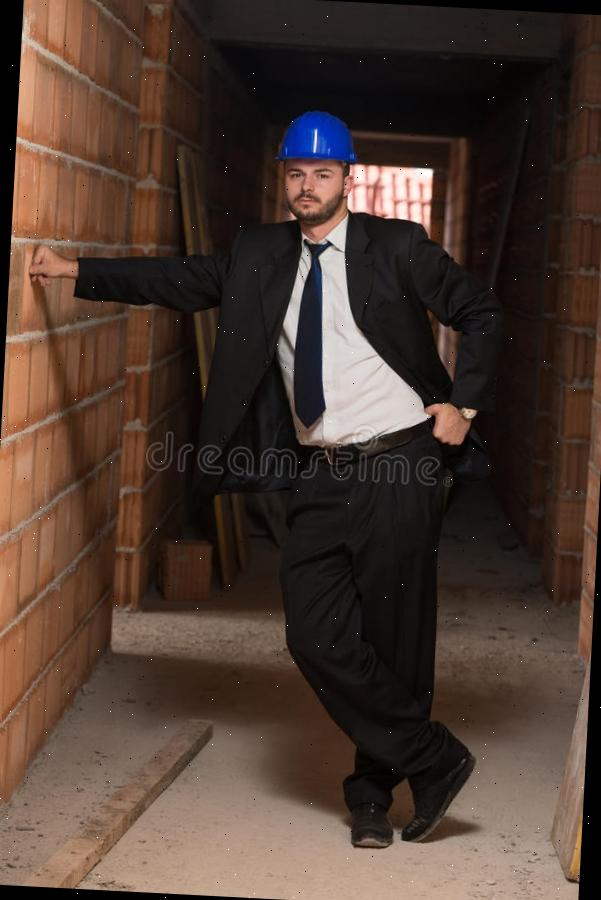helmet: (274, 110, 358, 172)
no_wear: (207, 219, 454, 485)
